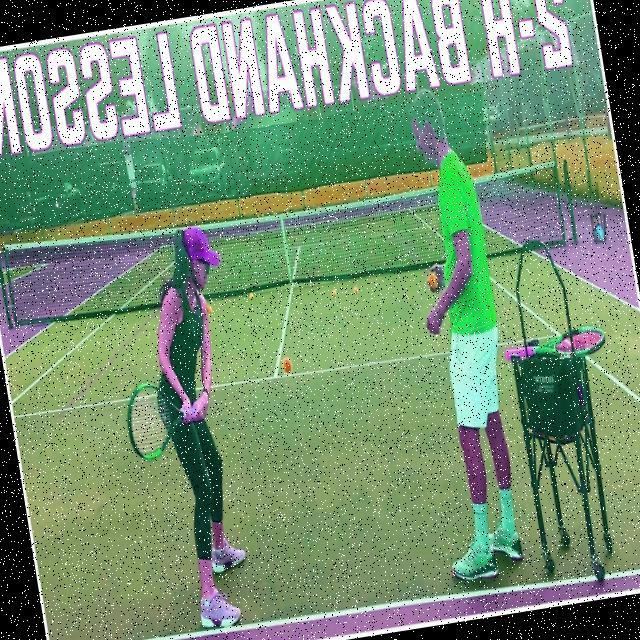court: (0, 225, 640, 640)
net: (0, 143, 580, 336)
player: (94, 216, 287, 640)
